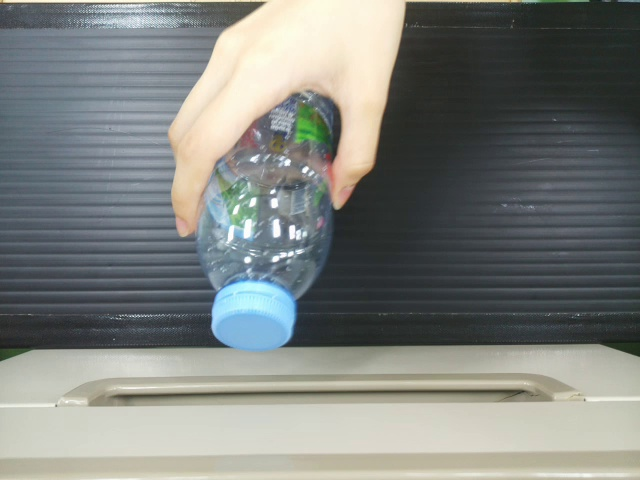bottle: (191, 89, 336, 349)
